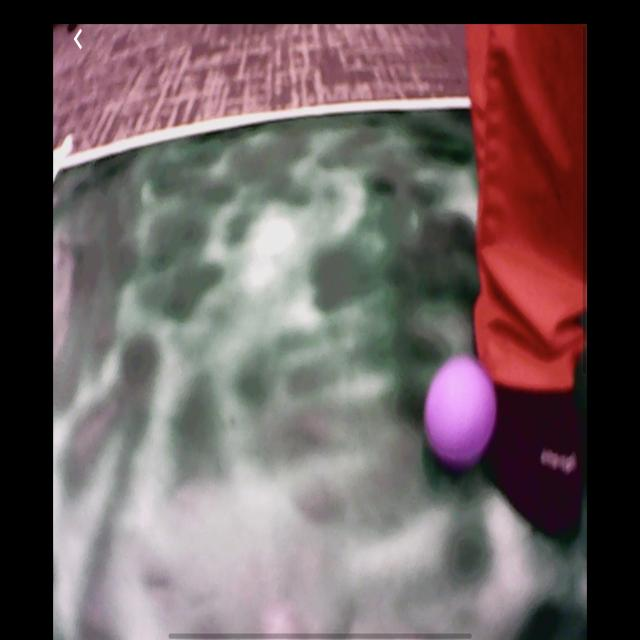ball: (425, 358, 500, 472)
